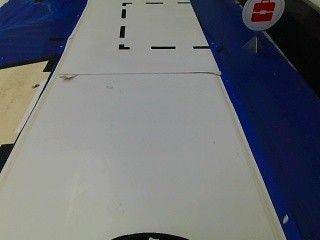company: (241, 0, 288, 29)
